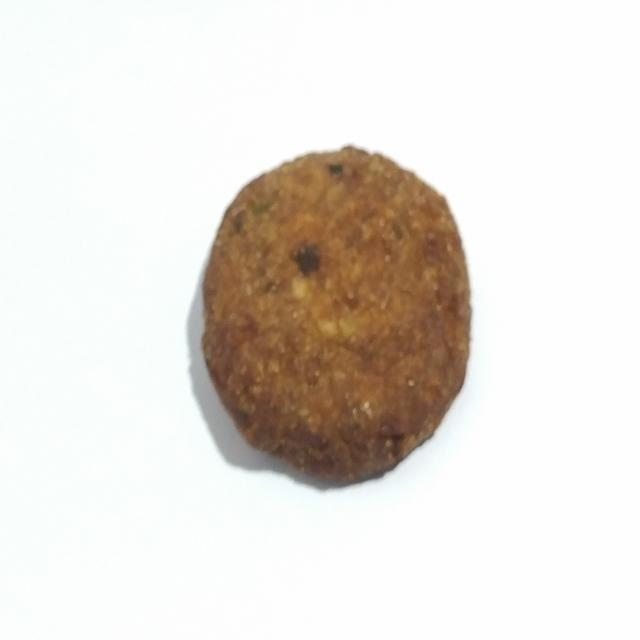Pajagua: (189, 138, 478, 492)
